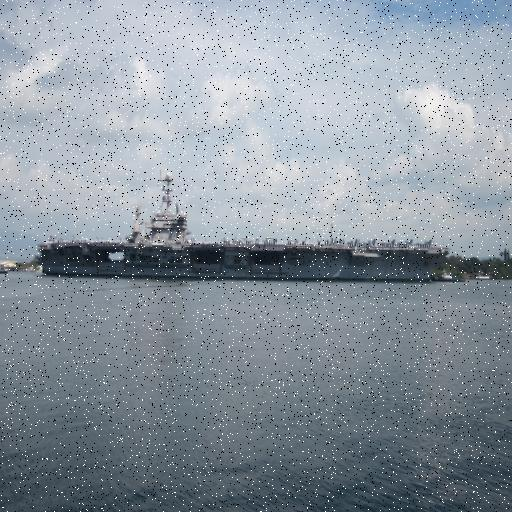Portanaves: (35, 170, 452, 285)
